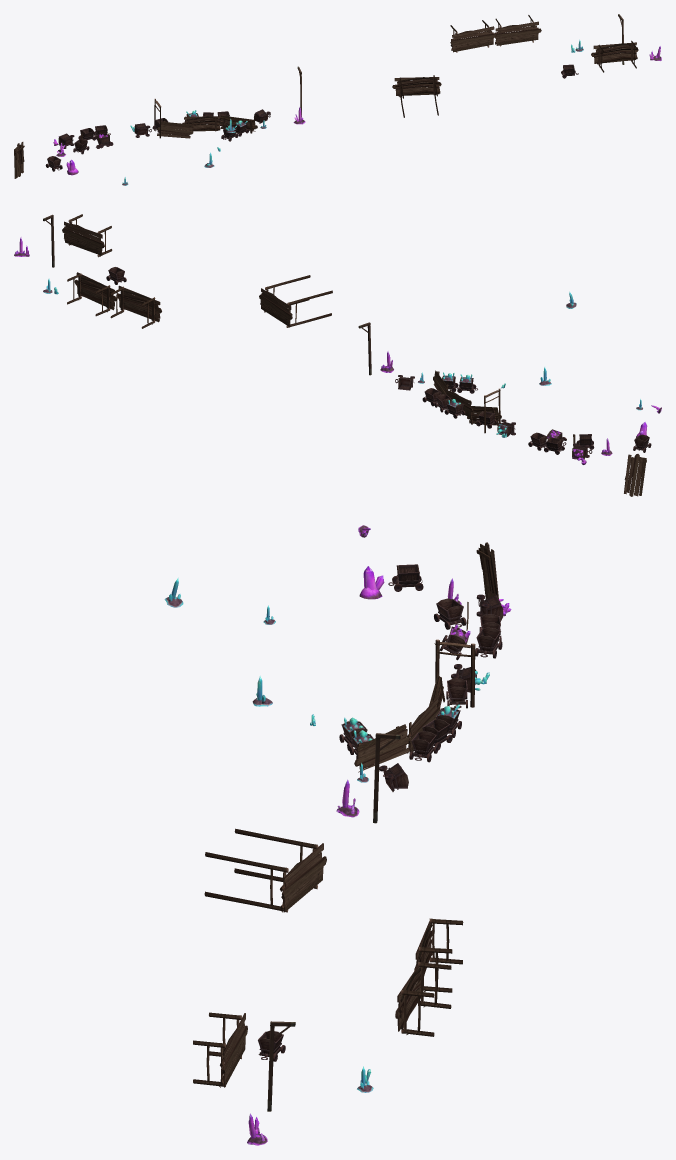
File: area_04_shuijing.FBX
3 views of the same model, one above another, from view 1: azimuth 30°, elevation 25°; view 2: azimuth 150°, elevation 25°; view 3: azimuth 270°, elevation 25° (orthographic). The views are drawn at different scales.
Visible parts, largest first — view 1: area_04_shuijing; view 2: area_04_shuijing; view 3: area_04_shuijing.
Boxes of the visible parts, x1=… form: area_04_shuijing: x1=14, y1=14, x2=661, y2=185; area_04_shuijing: x1=14, y1=214, x2=661, y2=496; area_04_shuijing: x1=164, y1=525, x2=511, y2=1145.
Size of the model in its own units: 11536 by 1570 by 2928.
